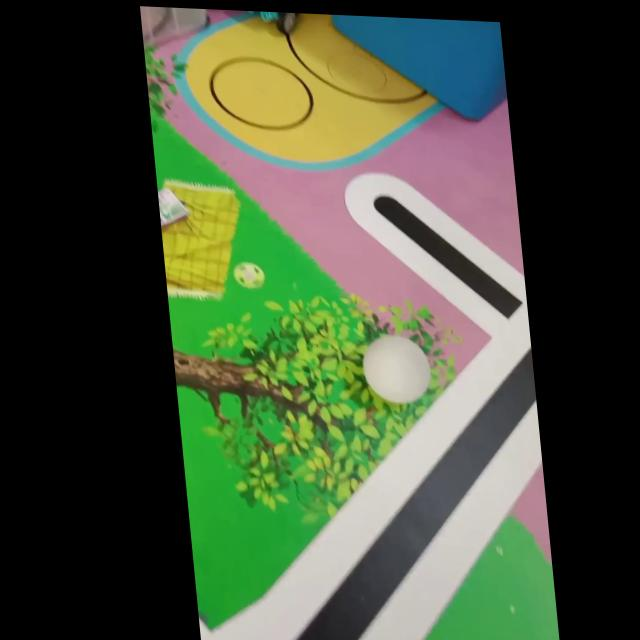white ball: (358, 332, 434, 405)
